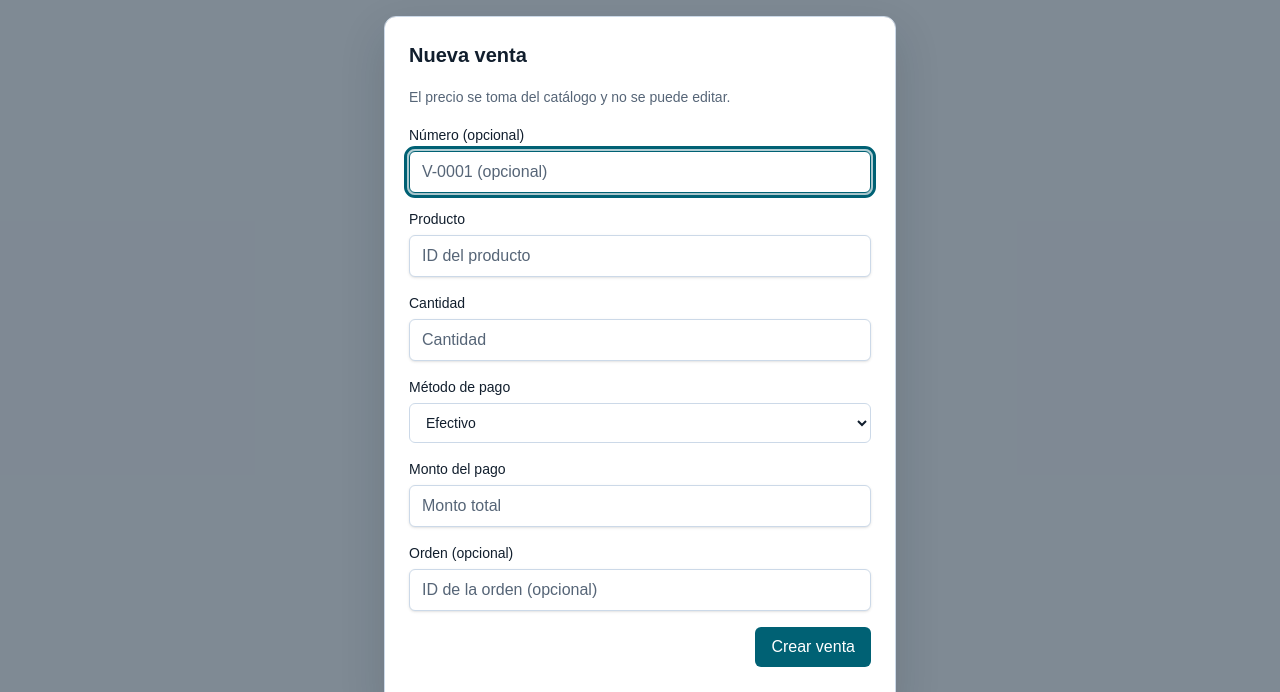
Test: VentaCreateModal › shows a success toast and closes on 201
Type "p_1" into the field labelled "Producto" at (640, 256), box [409,235,871,277]
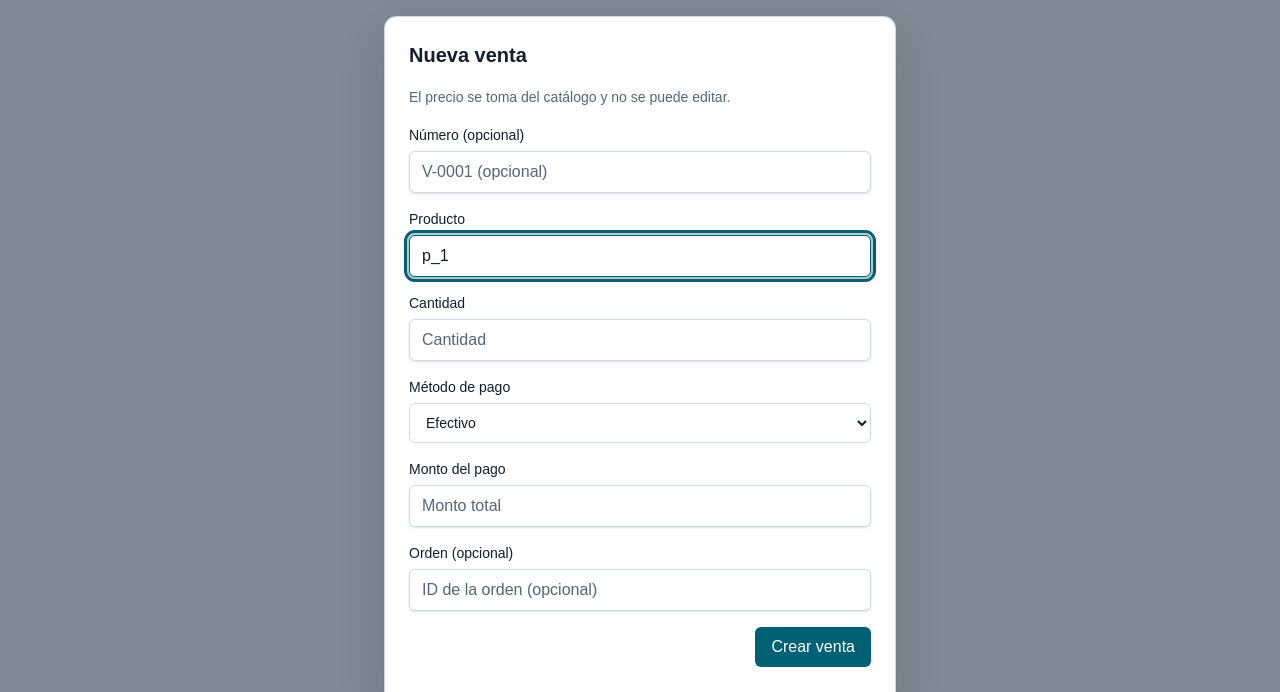
Type "2" into the number field labelled "Cantidad" at (640, 340), box [409,319,871,361]
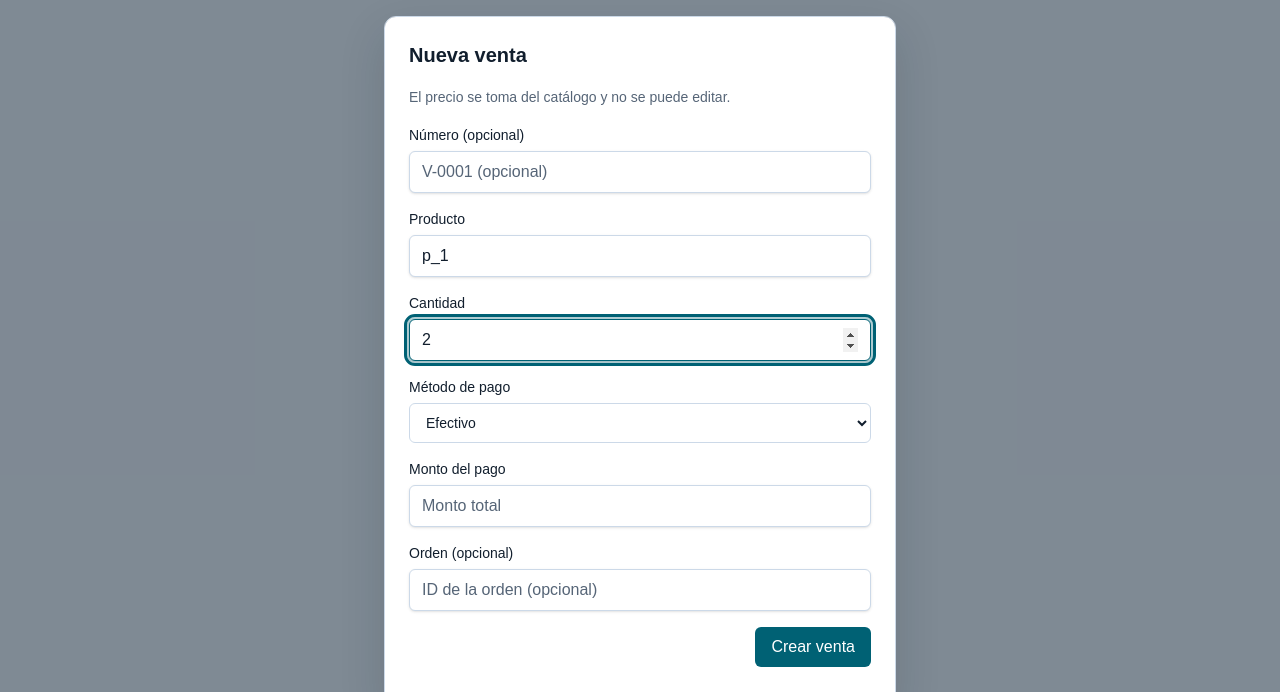
Type "2500" into the number field labelled "Monto del pago" at (640, 506), box [409,485,871,527]
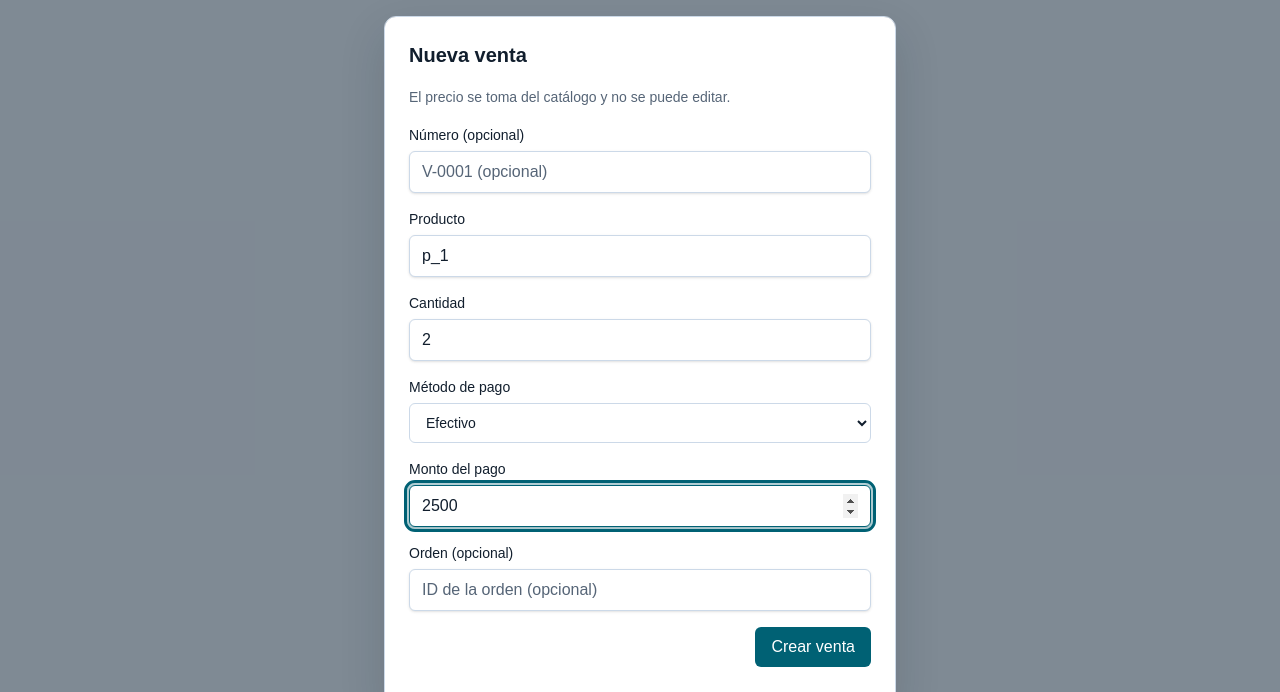
Click the button "Crear venta" at (813, 647), box [755,627,871,667]
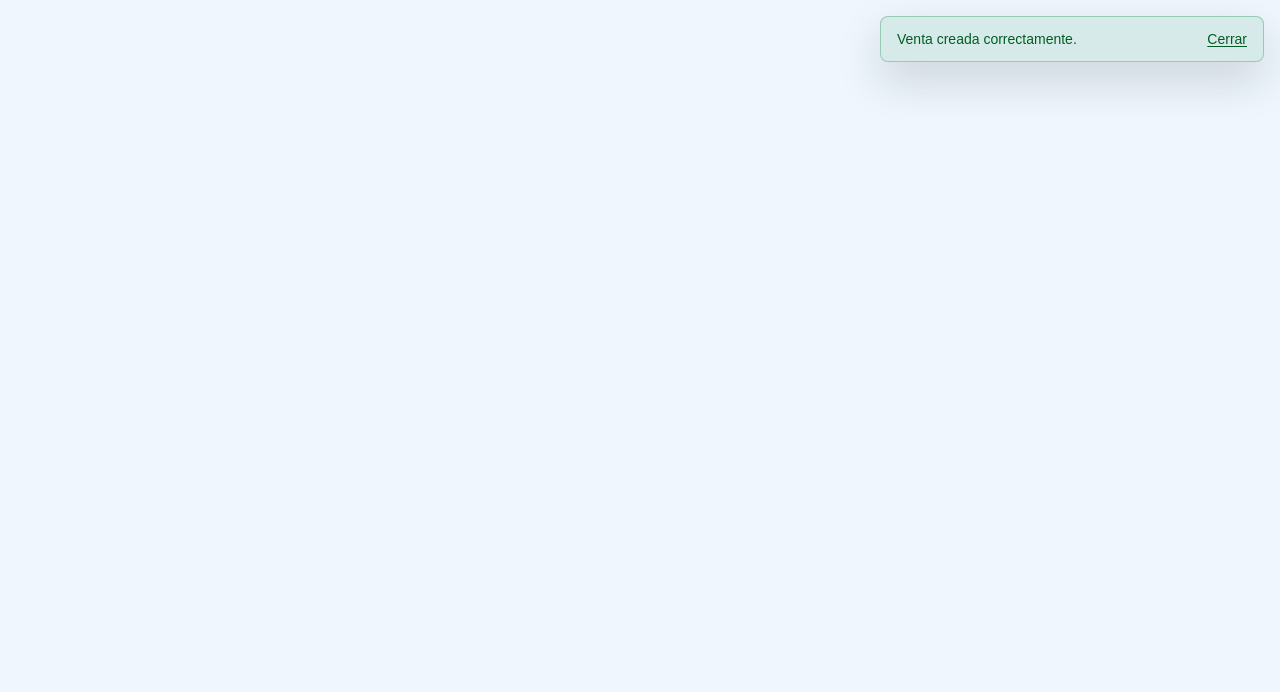
Result: the message shows "Venta creada correctamente." at [897,31,1077,47]
